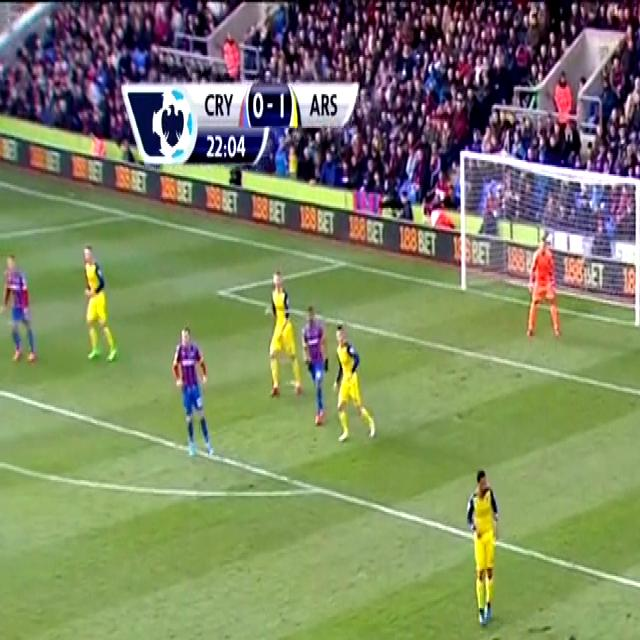goalkeeper: (524, 238, 569, 346)
soccer-player: (454, 462, 512, 640), (158, 322, 224, 468), (68, 238, 128, 368), (254, 264, 300, 408), (0, 245, 47, 371), (334, 317, 373, 451), (302, 300, 337, 437), (536, 631, 615, 640)
